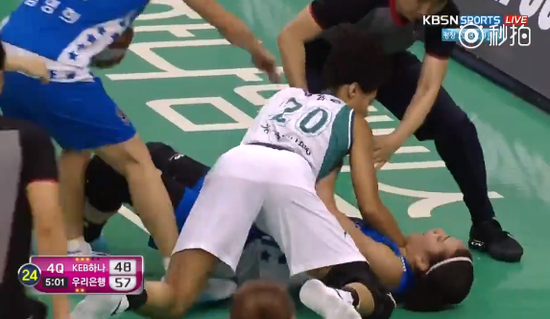fall: (107, 66, 443, 319)
